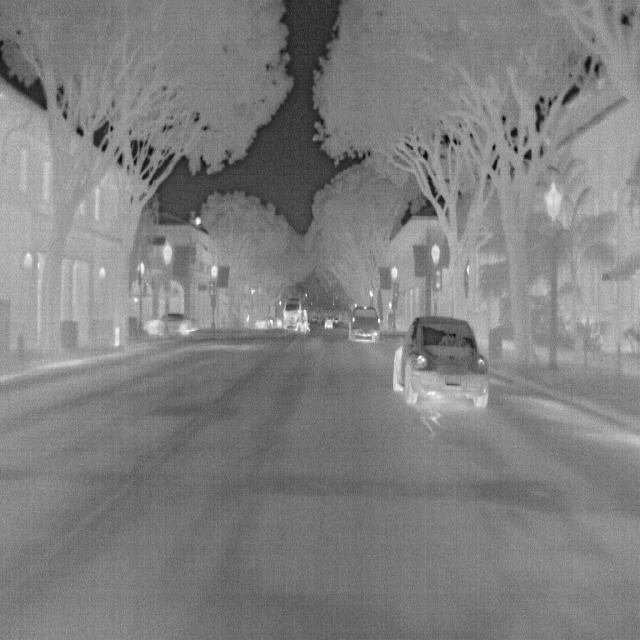Pedestrian: (294, 309, 304, 333), (302, 308, 311, 334)
Vehicle: (393, 312, 492, 412), (142, 309, 199, 340), (348, 305, 381, 345)
